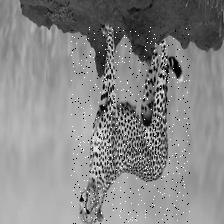Cheetha: (71, 27, 190, 224)
